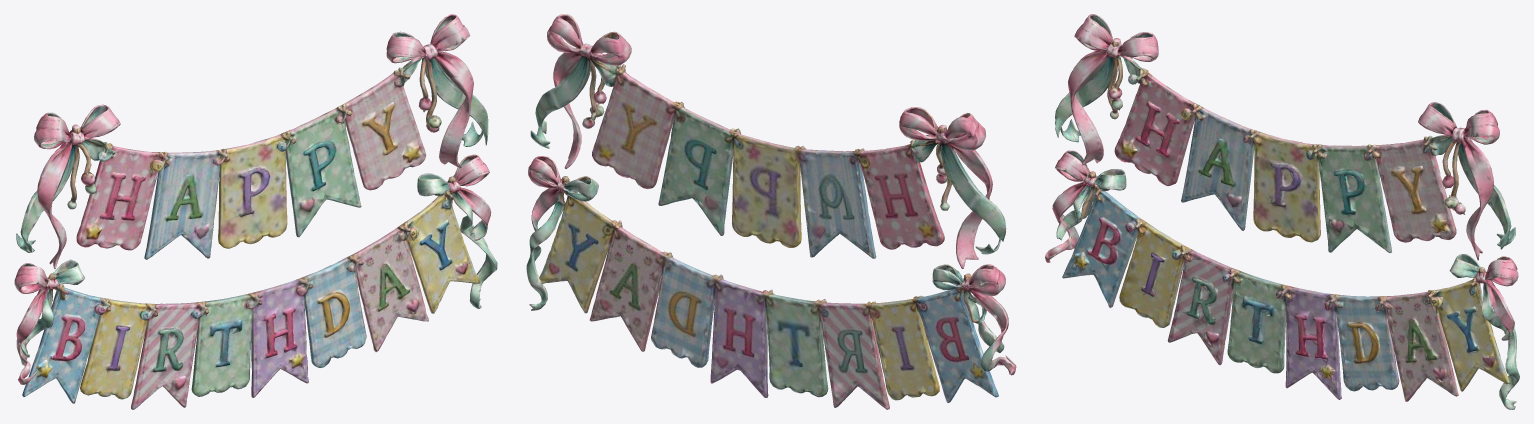
3 renders of one model, left to right at view 1: azimuth 30°, elevation 25°; view 2: azimuth 150°, elevation 25°; view 3: azimuth 330°, elevation 25°, orthographic. The views are drawn at different scales.
Size of the model in its own units: 1.9 by 1.26 by 0.1318.
Materials: 1 (1 with a texture image).
